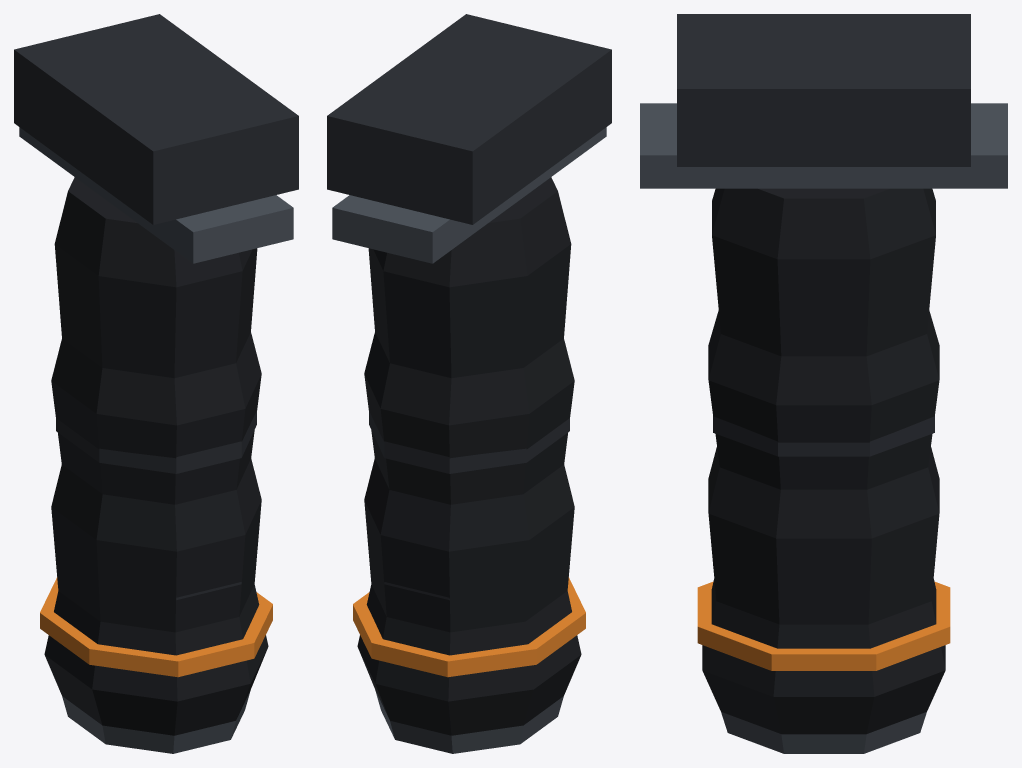
The model's file is att_grip.glb.
The picture shows the model from 3 angles, left to right: view 1: azimuth 30°, elevation 25°; view 2: azimuth 150°, elevation 25°; view 3: azimuth 270°, elevation 25°; orthographic projection. The views are drawn at different scales.
Parts seen in each view (by area): view 1: Body; view 2: Body; view 3: Body.
Boxes of the visible parts, box(x1,y1,x2,y2) form: Body: box(14, 14, 298, 753); Body: box(327, 14, 611, 753); Body: box(640, 14, 1007, 753).
Bounding box in the file's own units: 0.0366 × 0.12 × 0.06.
